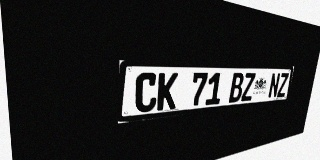1: (205, 73, 223, 105)
7: (189, 73, 208, 107)
B: (229, 73, 244, 103)
C: (134, 73, 158, 113)
K: (156, 73, 178, 111)
N: (268, 73, 281, 98)
Z: (241, 73, 256, 101), (277, 73, 289, 97)
